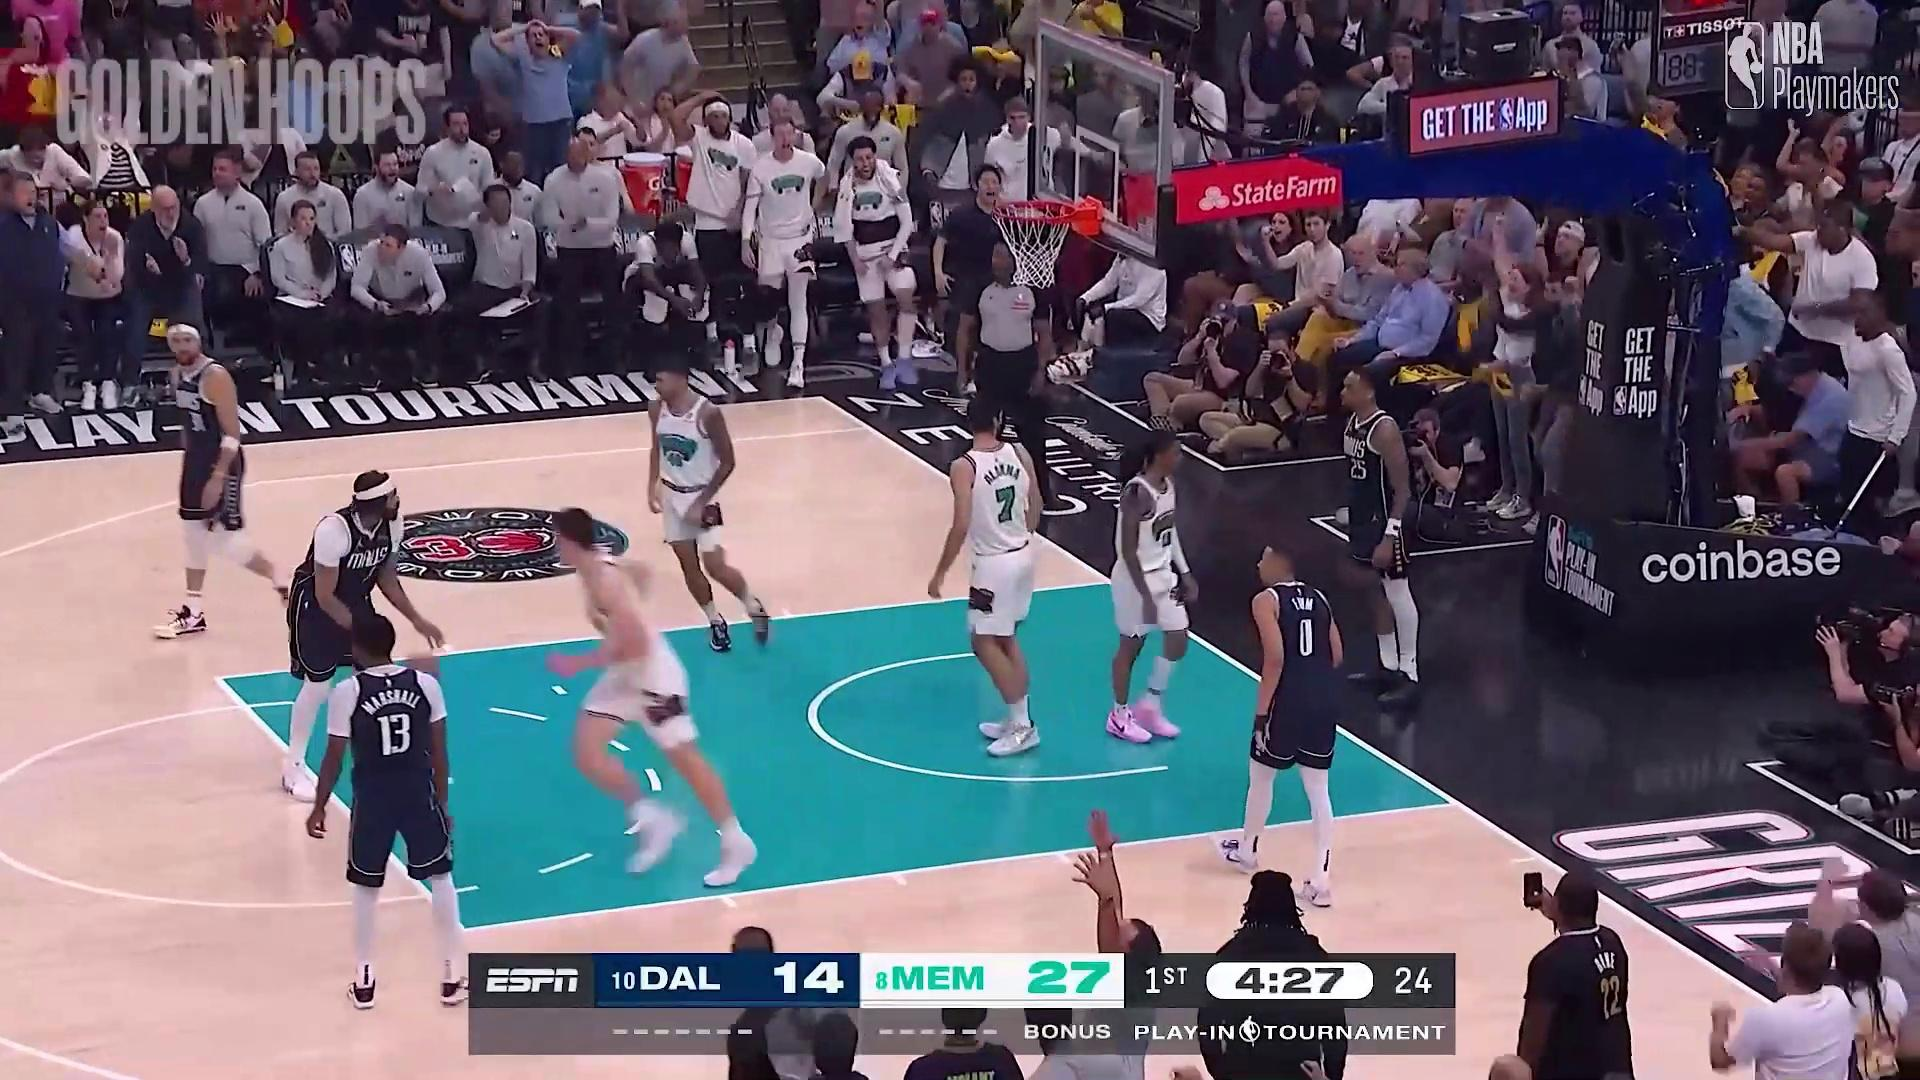hoop: (984, 182, 1081, 290)
